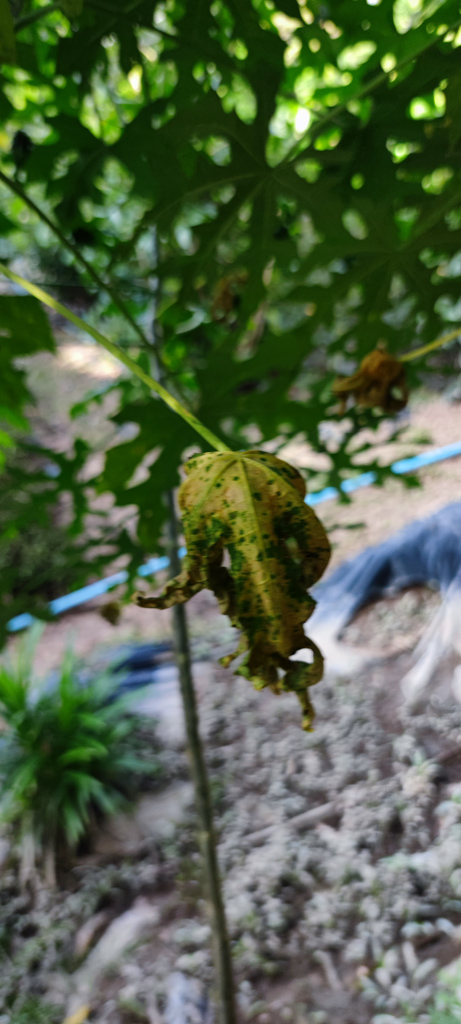Alternaria brassicicola: (145, 439, 352, 729)
